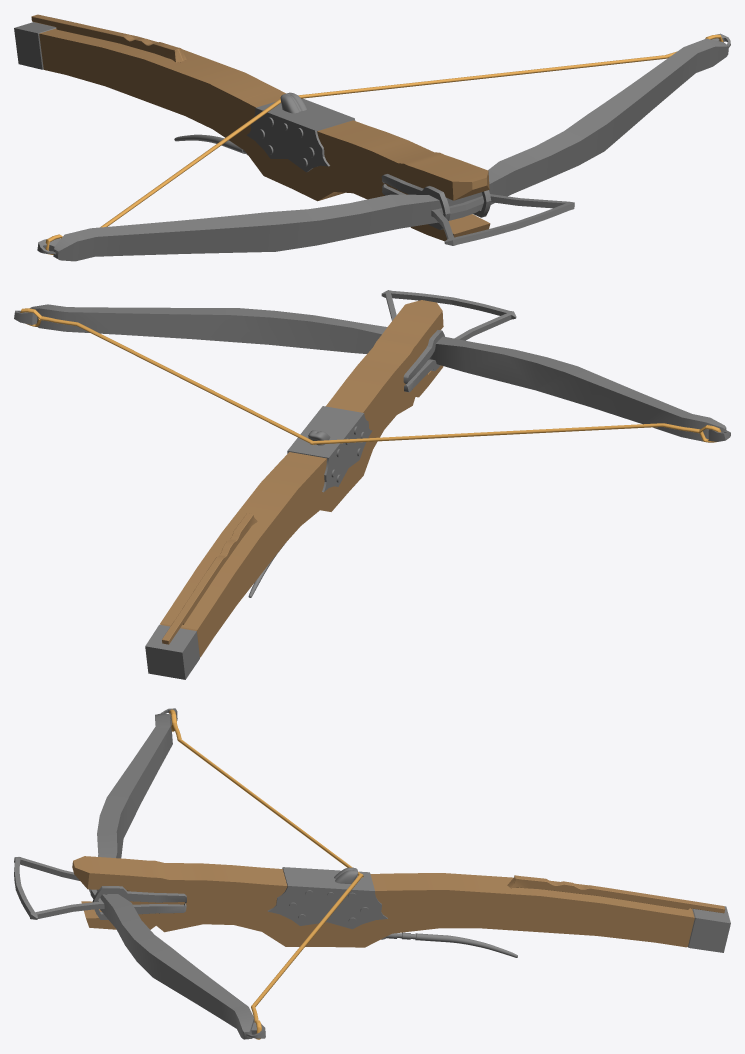
The model's file is ballesta.fbx.
3 renders of one model, top to bottom at view 1: azimuth 30°, elevation 25°; view 2: azimuth 150°, elevation 25°; view 3: azimuth 270°, elevation 25°, orthographic. The views are drawn at different scales.
Visible parts, largest first — view 1: Ballesta.001; view 2: Ballesta.001; view 3: Ballesta.001.
Part boxes in pixels (box(x1,y1,x2,y2)): Ballesta.001: box(14, 14, 730, 261); Ballesta.001: box(14, 290, 730, 679); Ballesta.001: box(14, 708, 730, 1039).
Bounding box in the file's own units: 267 × 45.56 × 254.
